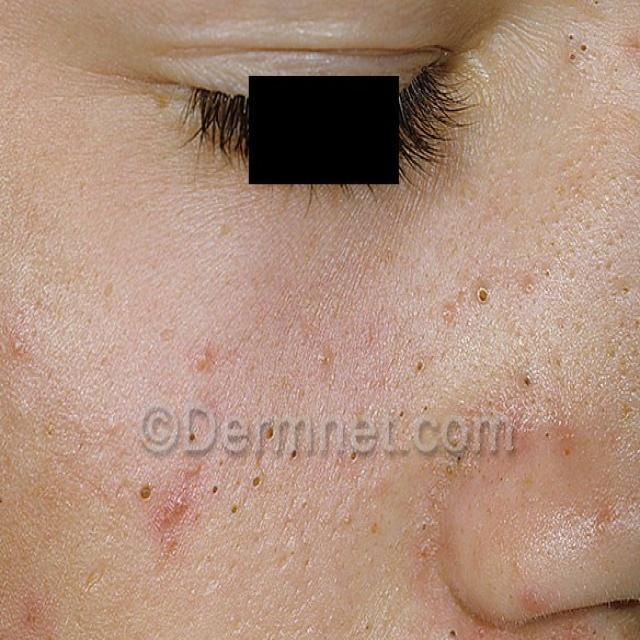Acne: (377, 228, 640, 488), (145, 288, 315, 450), (123, 434, 231, 588), (540, 14, 640, 141), (0, 297, 56, 388)
